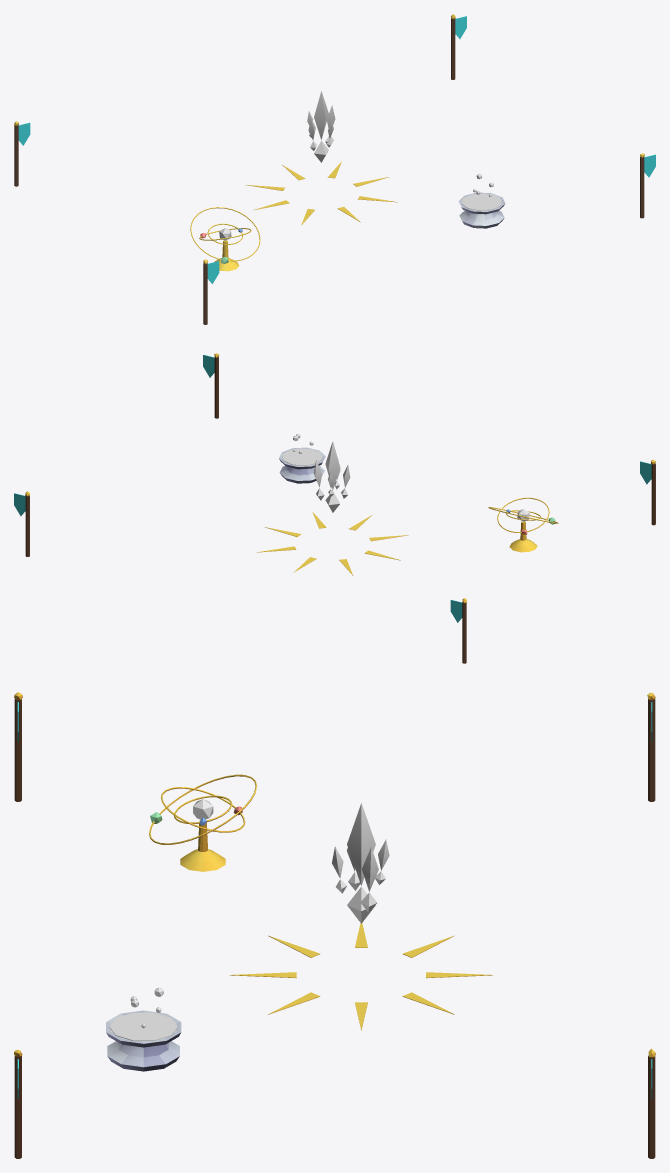
File: area_library_3_5.fbx
3 renders of one model, top to bottom at view 1: azimuth 30°, elevation 25°; view 2: azimuth 150°, elevation 25°; view 3: azimuth 270°, elevation 25°, orthographic. The views are drawn at different scales.
Visible parts, largest first — view 1: area_library_3_5_body, area_library_3_5_body_glow; view 2: area_library_3_5_body, area_library_3_5_body_glow; view 3: area_library_3_5_body, area_library_3_5_body_glow, area_library_3_5_body3_glow.
Part boxes in pixels (left/top/right/bottom): area_library_3_5_body: left=14, top=14, right=655, bottom=324; area_library_3_5_body_glow: left=307, top=91, right=501, bottom=210; area_library_3_5_body: left=14, top=353, right=655, bottom=663; area_library_3_5_body_glow: left=282, top=434, right=350, bottom=512; area_library_3_5_body: left=14, top=692, right=655, bottom=1158; area_library_3_5_body_glow: left=109, top=803, right=389, bottom=1040; area_library_3_5_body3_glow: left=332, top=846, right=378, bottom=912.
Bounding box in the file's own units: 16591 × 3688 × 12162.
Materials: 2 (1 with a texture image).
